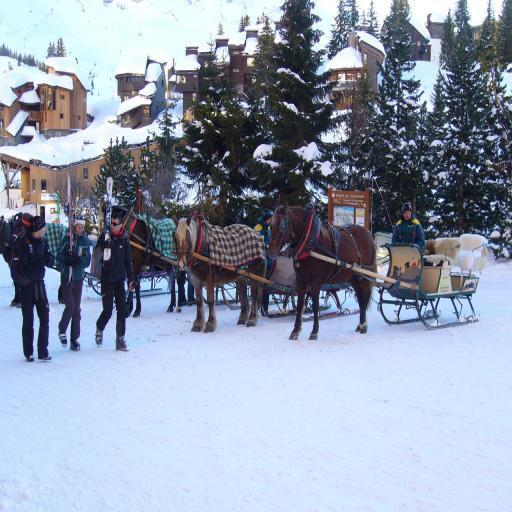horse: (264, 197, 378, 343), (171, 210, 267, 336), (100, 206, 186, 320), (0, 222, 70, 311)
